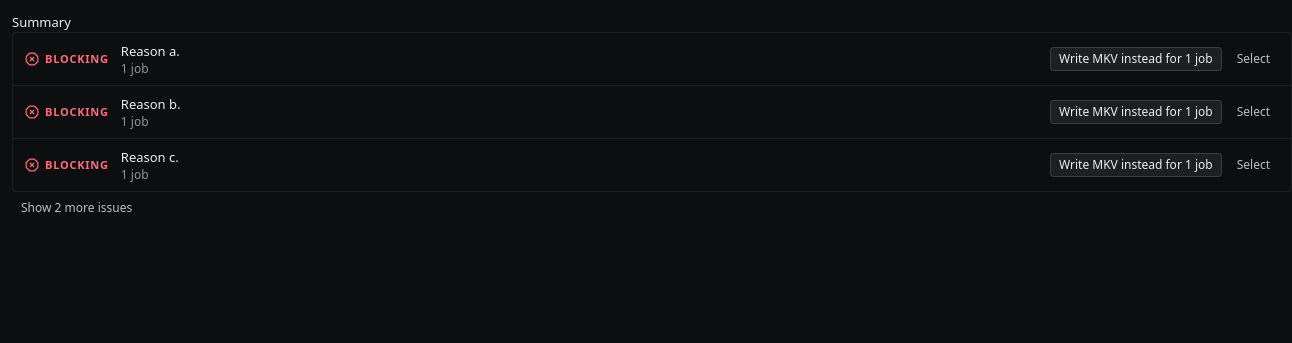
Test: issue groups › shows three groups until "Show {n} more issues"
Expected: the number of list items is 3, 13,33 -> 1291,85; 13,85 -> 1291,138; 13,138 -> 1291,191
Click the button "Show 2 more issues" at (77, 208), box 12,196 -> 141,220
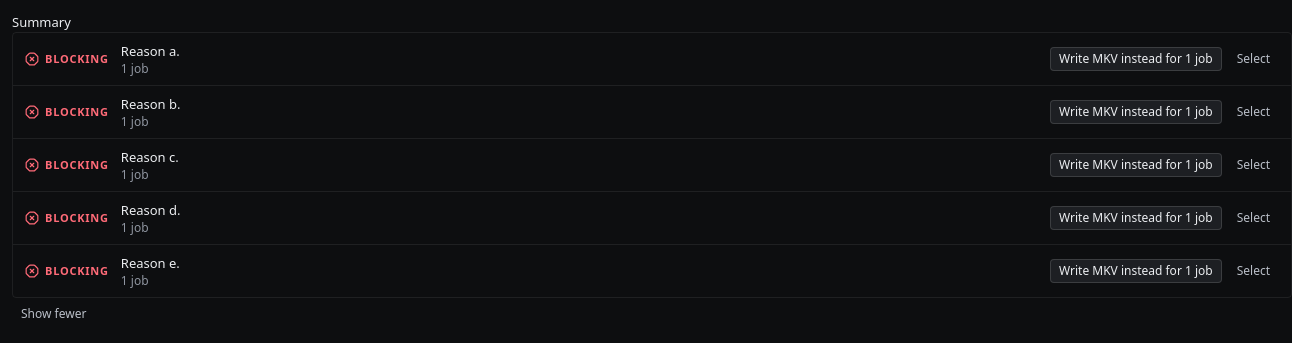
Now the number of list items is 5, box 13,33 -> 1291,85; 13,85 -> 1291,138; 13,138 -> 1291,191; 13,191 -> 1291,244; 13,244 -> 1291,297
Click the button "Show fewer" at (54, 314), box 12,302 -> 95,326
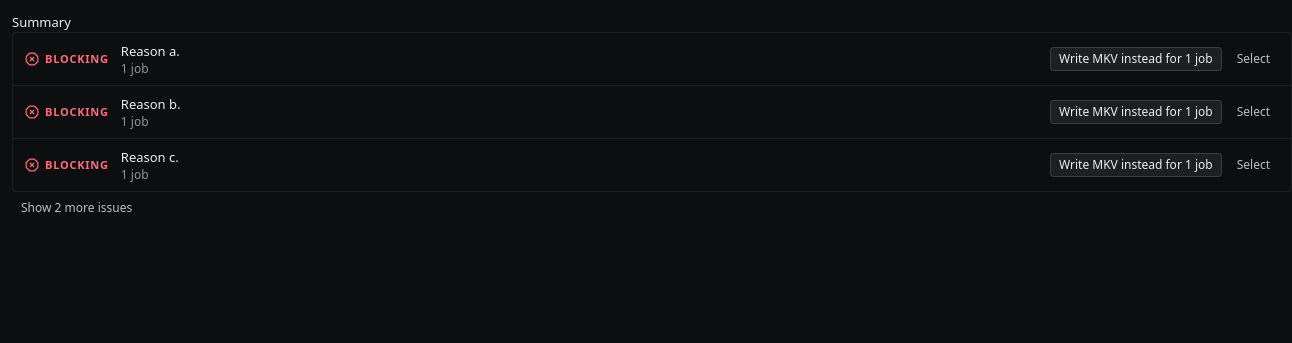
Now the number of list items is 3, box 13,33 -> 1291,85; 13,85 -> 1291,138; 13,138 -> 1291,191
